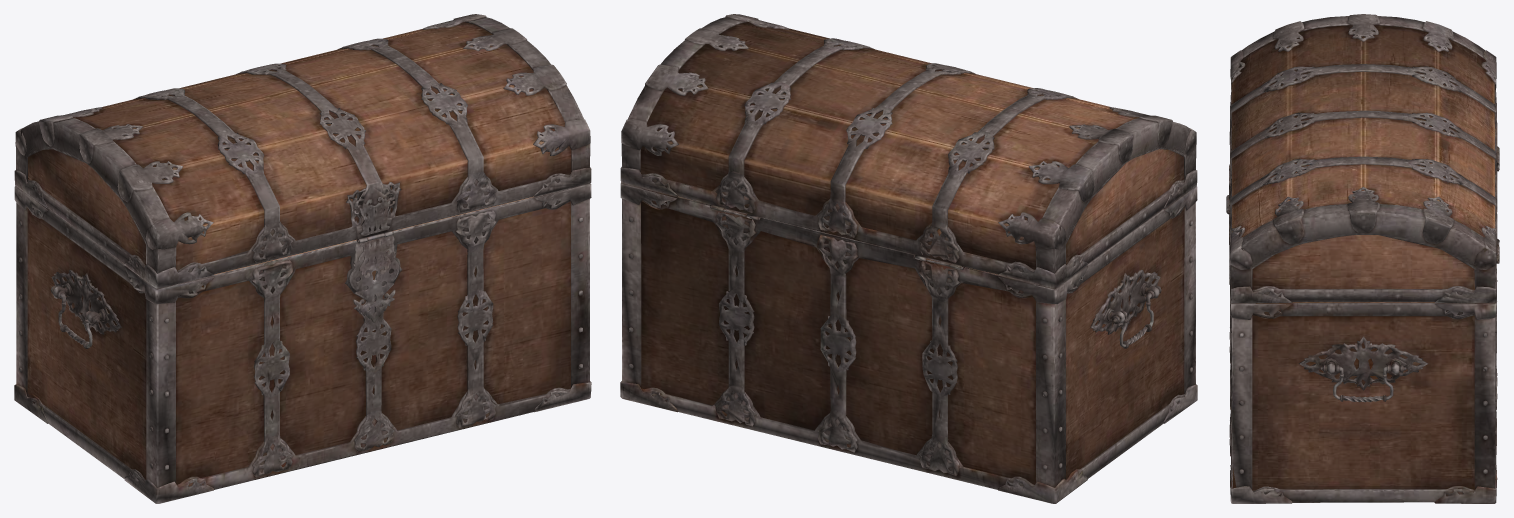
File: chest.glb
3 views of the same model, side by side, from view 1: azimuth 30°, elevation 25°; view 2: azimuth 150°, elevation 25°; view 3: azimuth 270°, elevation 25° (orthographic). The views are drawn at different scales.
Parts seen in each view (by area): view 1: treasure_chest_bottom, treasure_chest_lid, treasure_chest_lock, treasure_chest_handle_left; view 2: treasure_chest_bottom, treasure_chest_lid, treasure_chest_handle_left; view 3: treasure_chest_lid, treasure_chest_bottom, treasure_chest_handle_right.
Boxes of the visible parts, <box> form: treasure_chest_bottom: <box>14,183,591,503</box>; treasure_chest_lid: <box>14,14,591,288</box>; treasure_chest_lock: <box>349,233,399,322</box>; treasure_chest_handle_left: <box>50,285,100,348</box>; treasure_chest_bottom: <box>620,183,1197,503</box>; treasure_chest_lid: <box>620,14,1197,288</box>; treasure_chest_handle_left: <box>1112,285,1161,348</box>; treasure_chest_lid: <box>1226,14,1499,303</box>; treasure_chest_bottom: <box>1229,152,1499,503</box>; treasure_chest_handle_right: <box>1320,365,1406,402</box>.
Size of the model in its own units: 0.959 by 0.6181 by 0.5223.
1 material, 1 textured.
